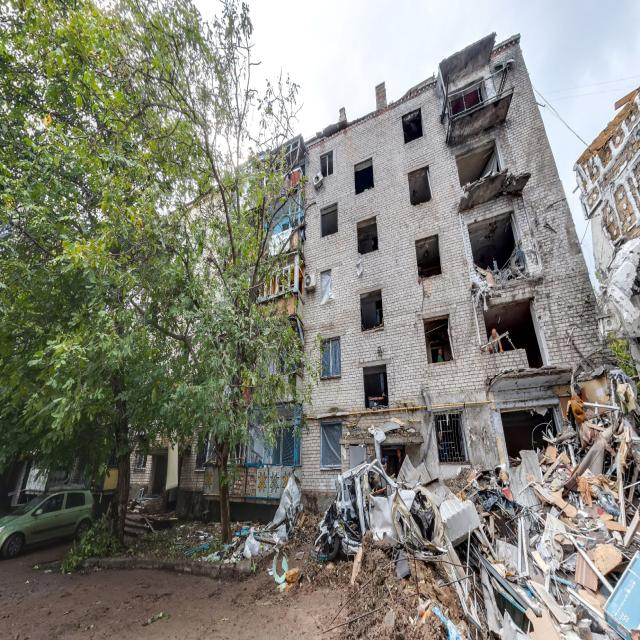broken_window: (467, 210, 520, 278), (433, 410, 468, 464), (423, 316, 453, 365), (414, 233, 442, 282), (362, 365, 388, 409), (359, 288, 384, 332), (320, 420, 342, 470), (407, 165, 432, 205), (319, 336, 341, 379), (401, 106, 423, 144), (356, 217, 378, 255), (354, 157, 374, 195), (319, 202, 338, 238)
